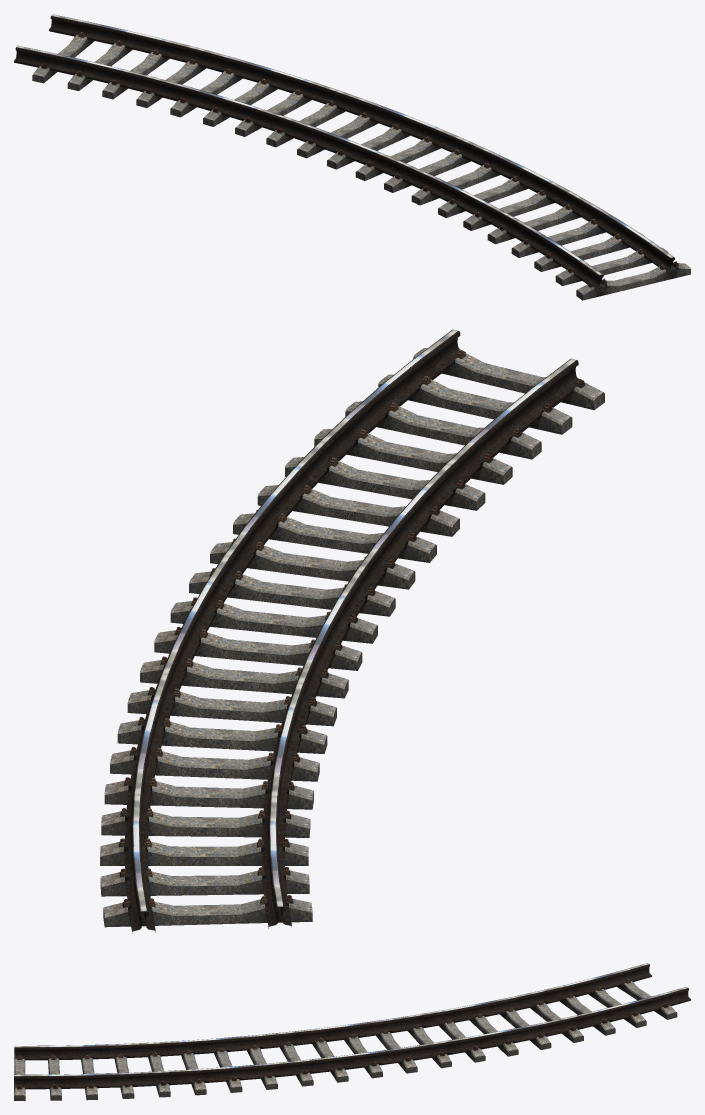
The model's file is Beton_rail_35.FBX.
3 views of the same model, one above another, from view 1: azimuth 30°, elevation 25°; view 2: azimuth 150°, elevation 25°; view 3: azimuth 270°, elevation 25° (orthographic). The views are drawn at different scales.
Visible parts, largest first — view 1: Beton_rail_35_LOD0; view 2: Beton_rail_35_LOD0; view 3: Beton_rail_35_LOD0.
Part boxes in pixels (x1=…): Beton_rail_35_LOD0: x1=14, y1=14, x2=690, y2=300; Beton_rail_35_LOD0: x1=100, y1=329, x2=604, y2=933; Beton_rail_35_LOD0: x1=14, y1=963, x2=690, y2=1100.
Size of what is drawn, in the model's own units: 6.97 by 16.39 by 0.4774.
